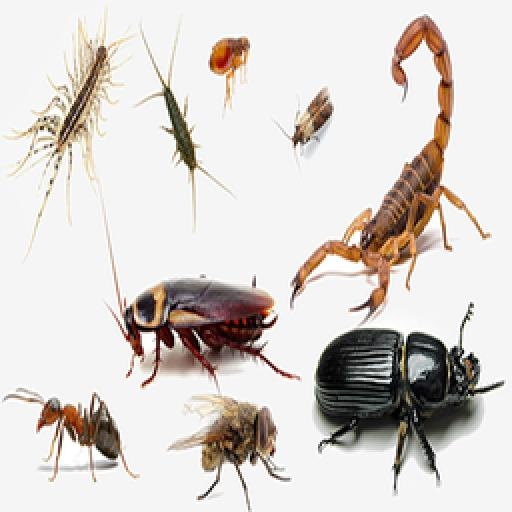insects: (286, 14, 494, 326), (312, 298, 506, 500), (8, 16, 136, 252), (118, 272, 302, 390), (134, 20, 230, 234), (4, 384, 142, 500), (162, 386, 294, 504), (280, 84, 340, 164), (206, 34, 254, 116)
